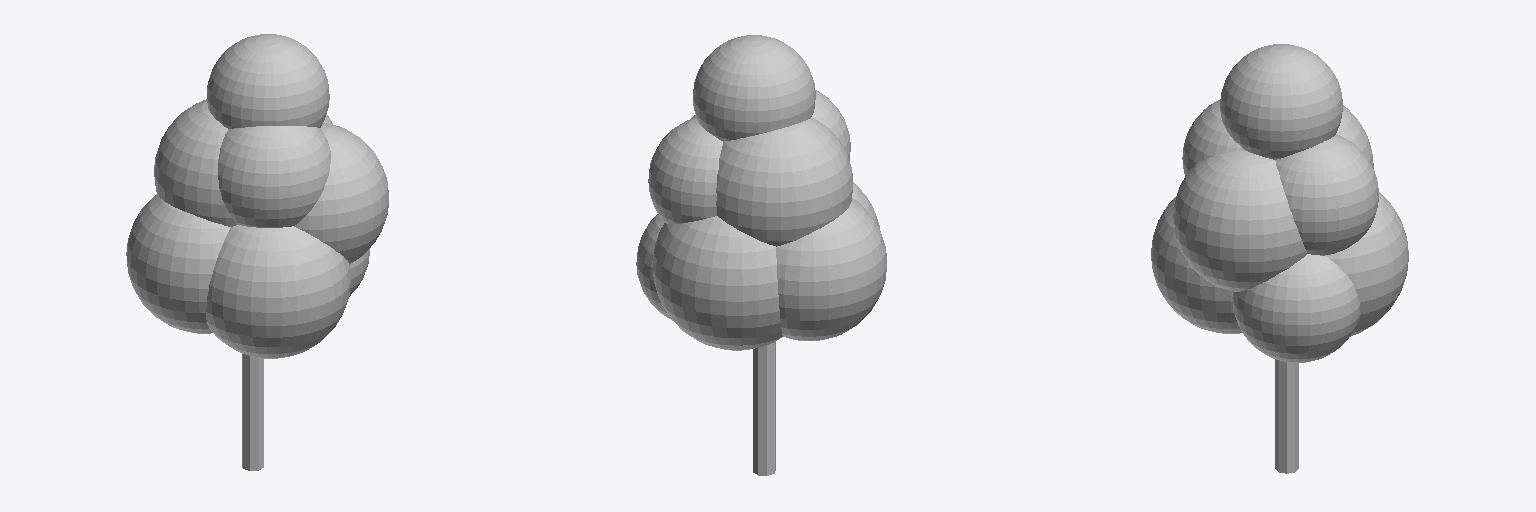
File: Tree 1.obj
The picture shows the model from 3 angles: view 1: azimuth 30°, elevation 25°; view 2: azimuth 150°, elevation 25°; view 3: azimuth 270°, elevation 25°; orthographic projection.
Visible parts, largest first — view 1: Sphere.003_Sphere.015, Cylinder; view 2: Sphere.003_Sphere.015, Cylinder; view 3: Sphere.003_Sphere.015, Cylinder.
Boxes of the visible parts, x1,y1,x2,y2 form: Sphere.003_Sphere.015: [126, 34, 388, 358]; Cylinder: [242, 353, 263, 470]; Sphere.003_Sphere.015: [636, 35, 886, 350]; Cylinder: [753, 341, 775, 475]; Sphere.003_Sphere.015: [1151, 44, 1408, 362]; Cylinder: [1275, 359, 1298, 473].
Size of the model in its own units: 3.3 by 5.88 by 3.23.